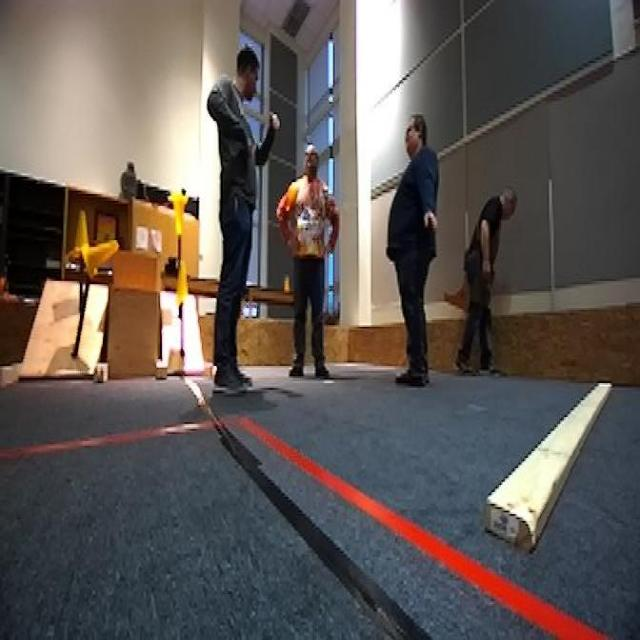frc_cone: (75, 235, 118, 281), (72, 211, 92, 257), (168, 191, 188, 235), (173, 260, 190, 306)
